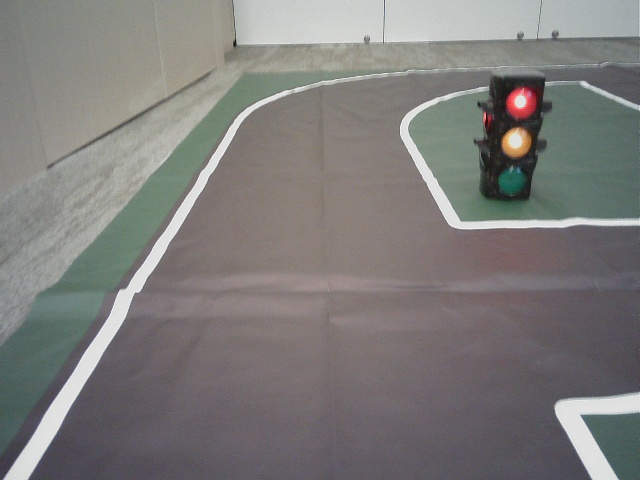red: (493, 80, 537, 196)
